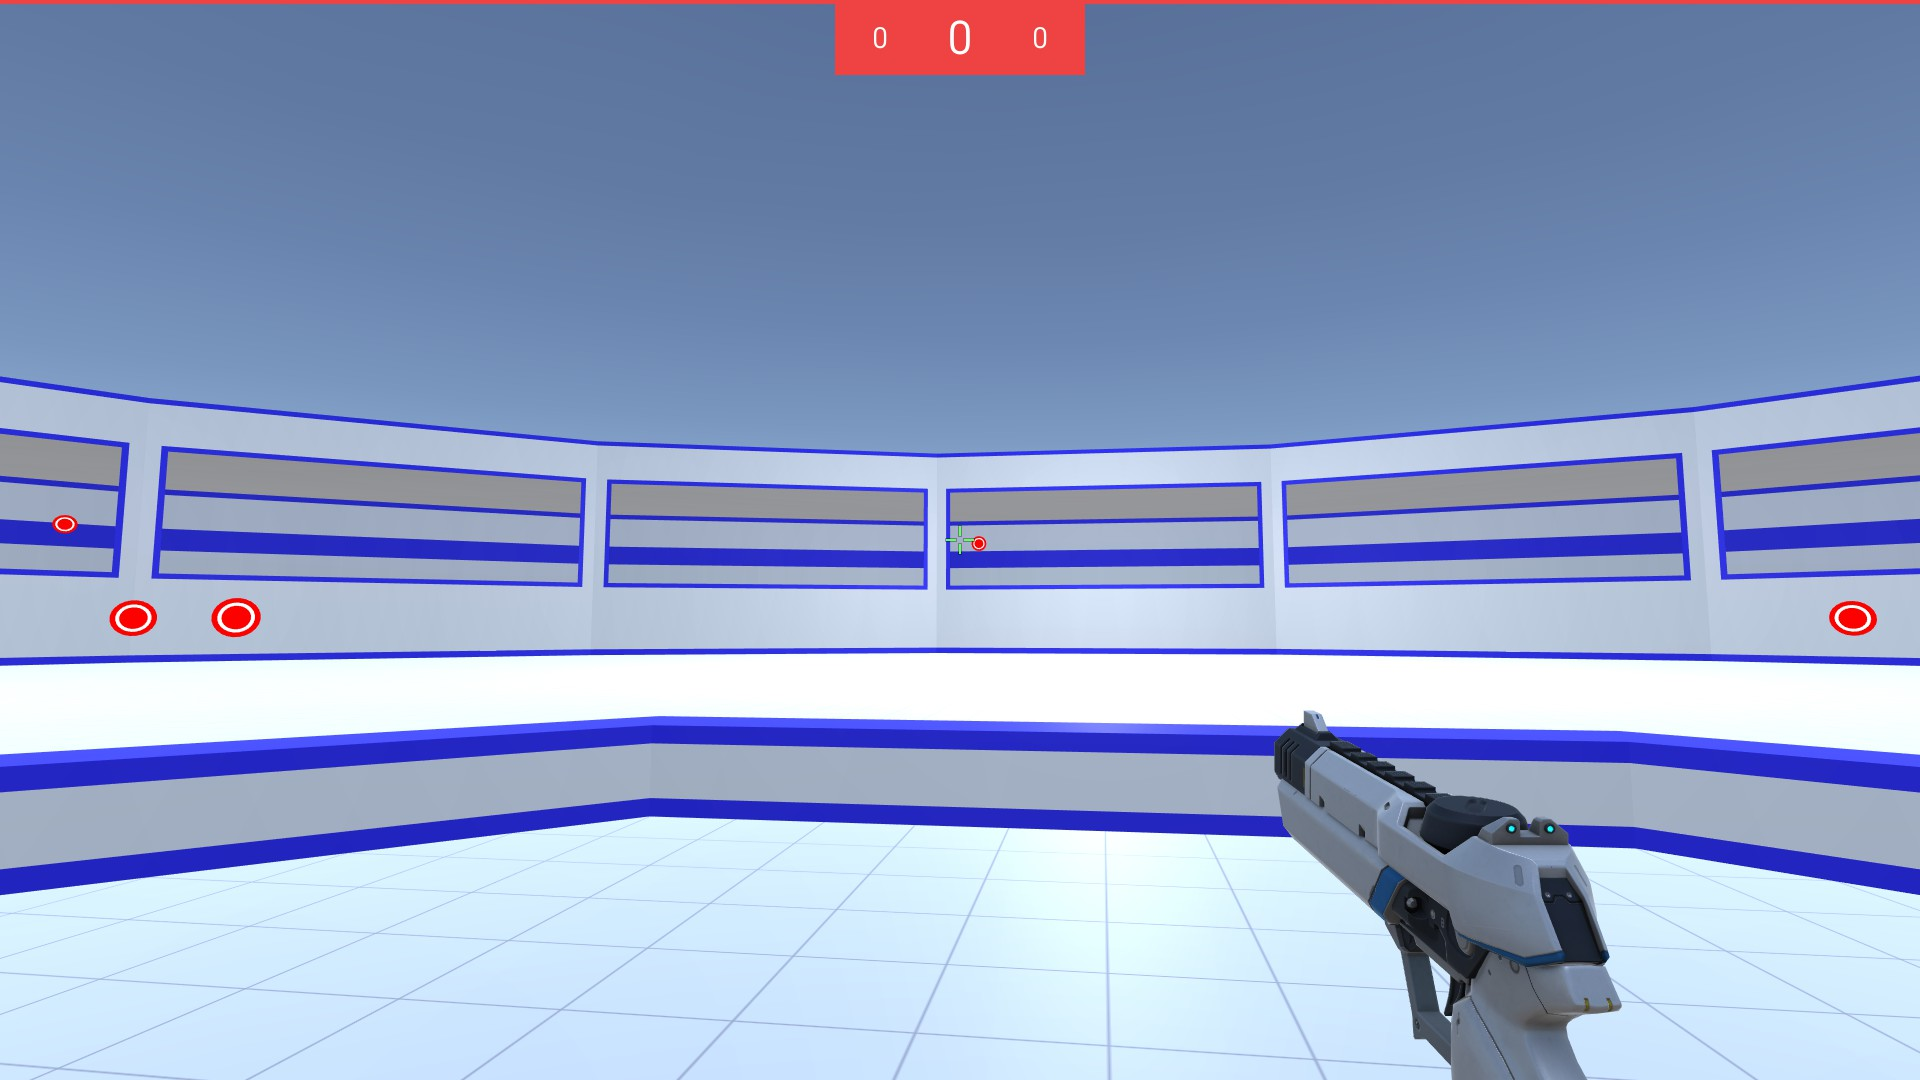target: (210, 597, 264, 638), (1826, 599, 1882, 638), (108, 599, 160, 640), (50, 513, 82, 537), (971, 533, 986, 551)
